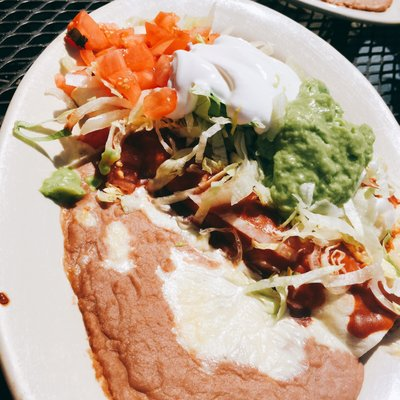curry: (256, 79, 376, 216)
sushi: (6, 0, 400, 354)
